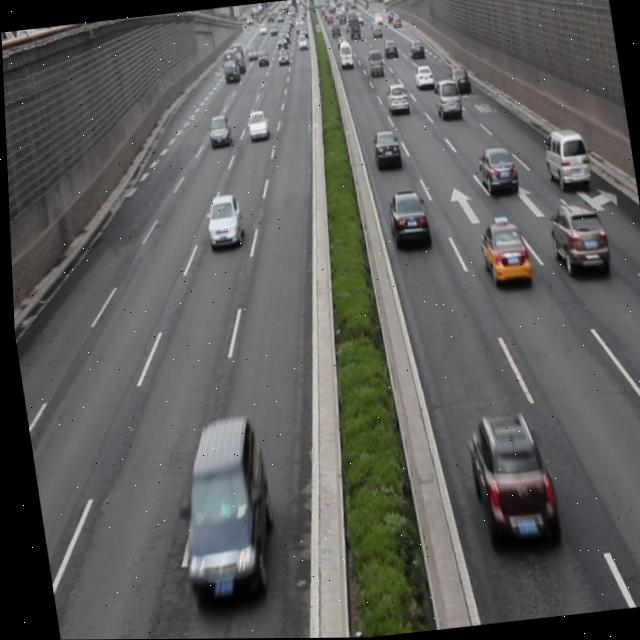car: (457, 408, 554, 555), (543, 198, 606, 278), (474, 217, 529, 287), (383, 188, 427, 248), (201, 193, 243, 247), (473, 145, 516, 196), (368, 126, 401, 173), (430, 76, 461, 121), (204, 113, 231, 146), (383, 82, 409, 114), (243, 108, 268, 141)
truck: (161, 413, 277, 604), (539, 127, 589, 189)
